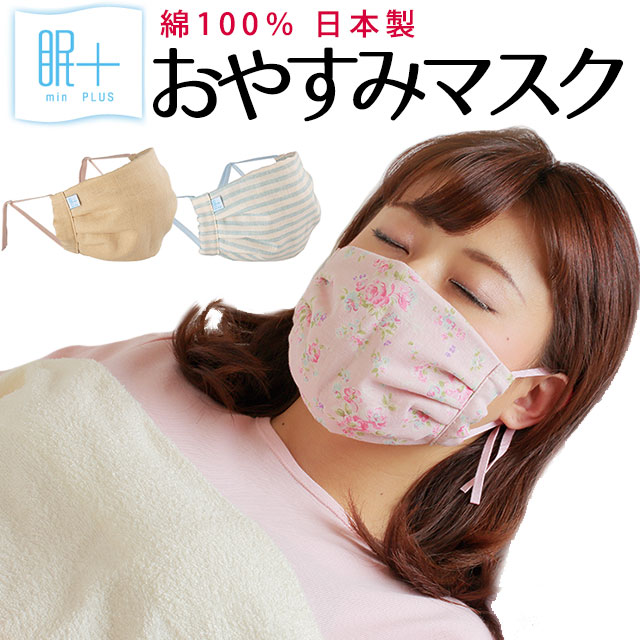mask: (289, 250, 514, 448)
